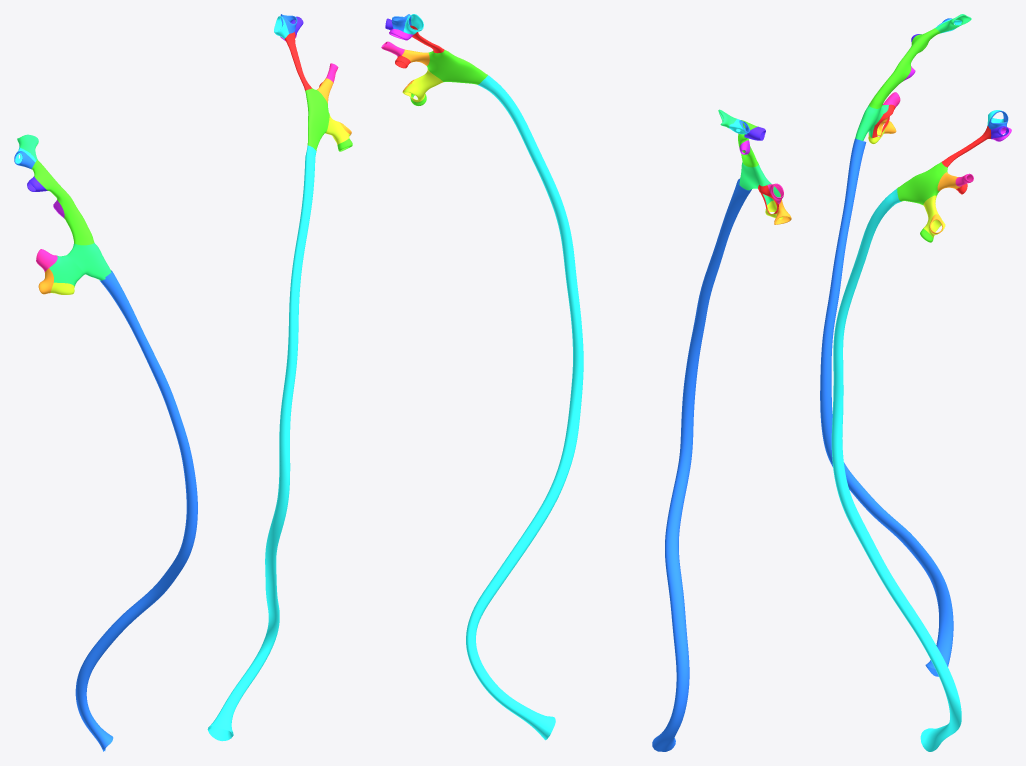
File: harnleiter-male-mobil.glb
3 renders of one model, left to right at view 1: azimuth 30°, elevation 25°; view 2: azimuth 150°, elevation 25°; view 3: azimuth 270°, elevation 25°, orthographic. The views are drawn at different scales.
Visible parts, largest first — view 1: 0:16:VH_M_ureter_L, 0:33:VH_M_ureter_R, 0:18:VH_M_major_calyx_R_a, 0:15:VH_M_renal_pelvis_L, 0:32:VH_M_renal_pelvis_R, 0:19:VH_M_major_calyx_R_b; view 2: 0:16:VH_M_ureter_L, 0:33:VH_M_ureter_R, 0:15:VH_M_renal_pelvis_L; view 3: 0:16:VH_M_ureter_L, 0:33:VH_M_ureter_R, 0:18:VH_M_major_calyx_R_a, 0:15:VH_M_renal_pelvis_L, 0:32:VH_M_renal_pelvis_R, 0:0:VH_M_major_calyx_L_a.
Boxes of the visible parts, left/top/right/bottom form: 0:16:VH_M_ureter_L: left=207, top=145, right=316, bottom=741; 0:33:VH_M_ureter_R: left=75, top=270, right=197, bottom=751; 0:18:VH_M_major_calyx_R_a: left=31, top=160, right=94, bottom=245; 0:15:VH_M_renal_pelvis_L: left=305, top=88, right=329, bottom=150; 0:32:VH_M_renal_pelvis_R: left=67, top=243, right=111, bottom=280; 0:19:VH_M_major_calyx_R_b: left=49, top=255, right=84, bottom=286; 0:16:VH_M_ureter_L: left=466, top=75, right=583, bottom=740; 0:33:VH_M_ureter_R: left=652, top=178, right=751, bottom=751; 0:15:VH_M_renal_pelvis_L: left=427, top=49, right=487, bottom=84; 0:16:VH_M_ureter_L: left=831, top=188, right=961, bottom=751; 0:33:VH_M_ureter_R: left=820, top=138, right=953, bottom=676; 0:18:VH_M_major_calyx_R_a: left=869, top=28, right=940, bottom=108; 0:15:VH_M_renal_pelvis_L: left=897, top=162, right=947, bottom=204; 0:32:VH_M_renal_pelvis_R: left=855, top=105, right=883, bottom=140; 0:0:VH_M_major_calyx_L_a: left=941, top=126, right=991, bottom=167.
Size of the model in its own units: 0.1543 by 0.2939 by 0.0743.
